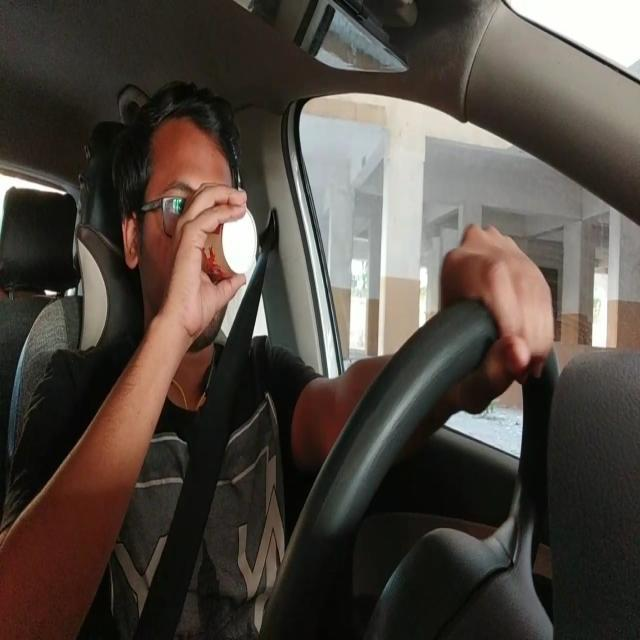Drinking: (123, 114, 258, 347)
